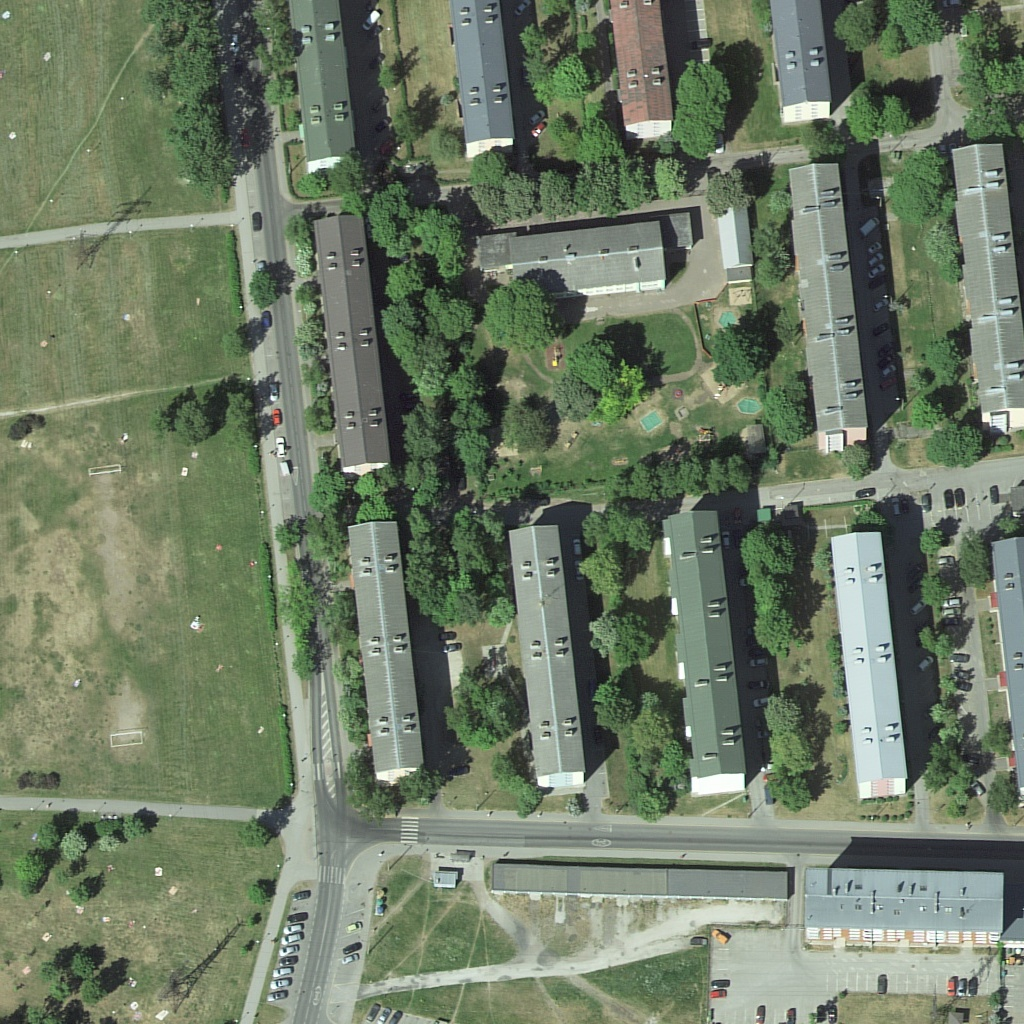building: (780, 159, 872, 445), (665, 510, 751, 797), (825, 529, 915, 798), (503, 521, 588, 789), (947, 140, 1024, 429), (342, 519, 426, 781), (314, 211, 394, 469), (801, 863, 1005, 950), (489, 859, 793, 904), (514, 218, 672, 303), (447, 6, 520, 152), (608, 4, 673, 135), (764, 6, 835, 121), (719, 205, 756, 285)
